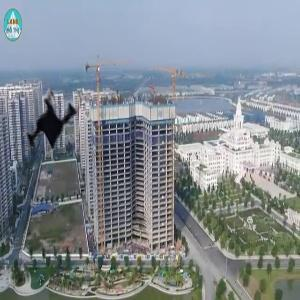drone: (2, 76, 96, 170)
